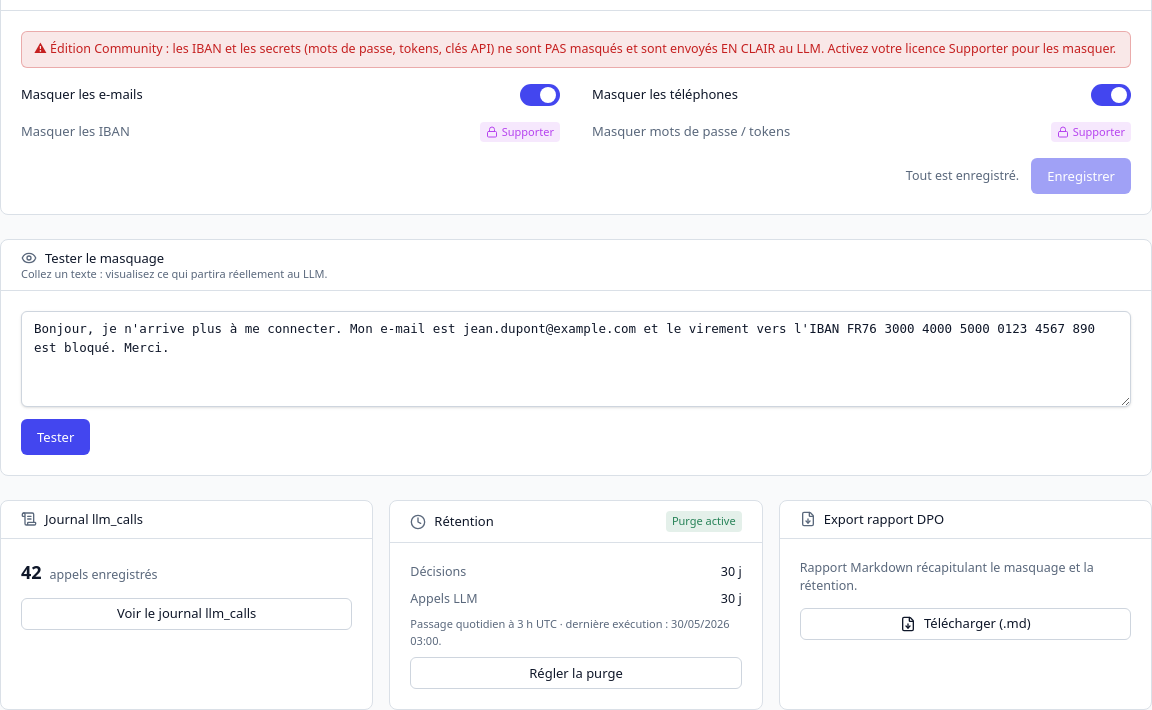
Test case: Privacy › compte les remplacements de la passe Supporter (NIR/SIRET)
The width and height of the screenshot is (1152, 710).
(page scrolled)
Click the button "Tester". click: point(56, 437)
box: [21,419,90,455]
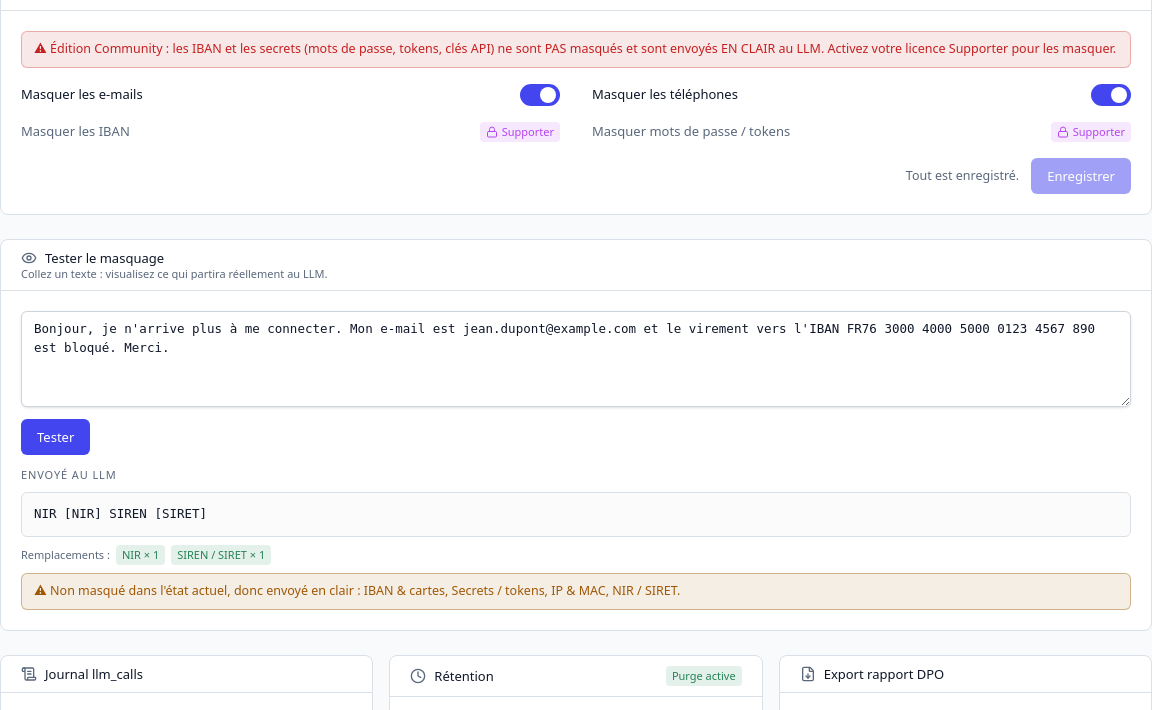
Now the text "NIR × 1" is shown, box [116,544,165,565]
Now the text "SIREN / SIRET × 1" is shown, box [171,544,271,565]
